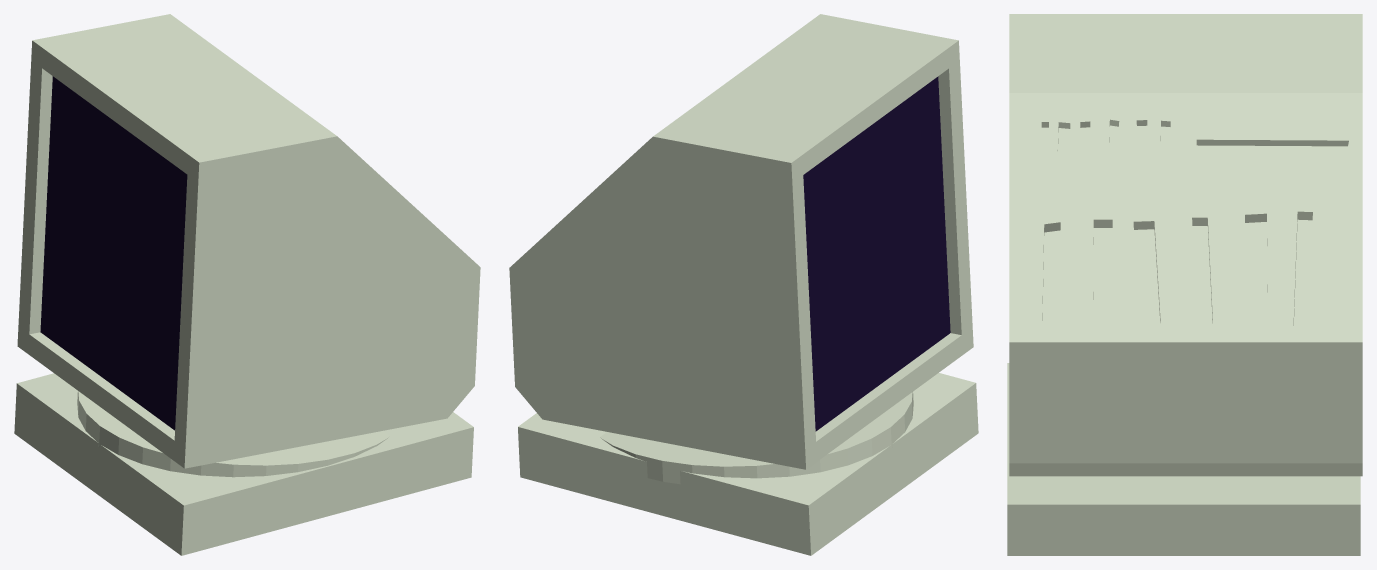
The model's file is comp pugo.glb.
The picture shows the model from 3 angles, left to right: view 1: azimuth 30°, elevation 25°; view 2: azimuth 150°, elevation 25°; view 3: azimuth 270°, elevation 25°; orthographic projection. The views are drawn at different scales.
Parts seen in each view (by area): view 1: Cube; view 2: Cube; view 3: Cube.
Part boxes in pixels (box(x1,y1,x2,y2)): Cube: box(14, 14, 480, 555); Cube: box(509, 14, 978, 555); Cube: box(1007, 14, 1362, 555).
Size of the model in its own units: 2.07 by 2.56 by 2.01.
